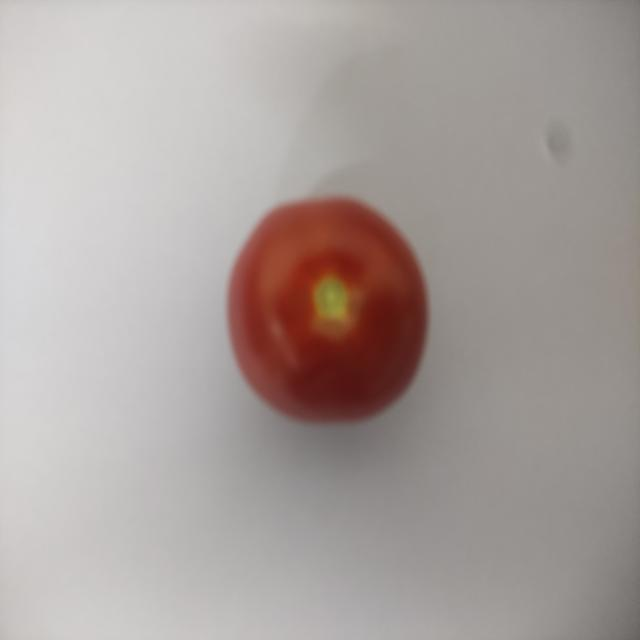kirmizi: (202, 175, 449, 433)
